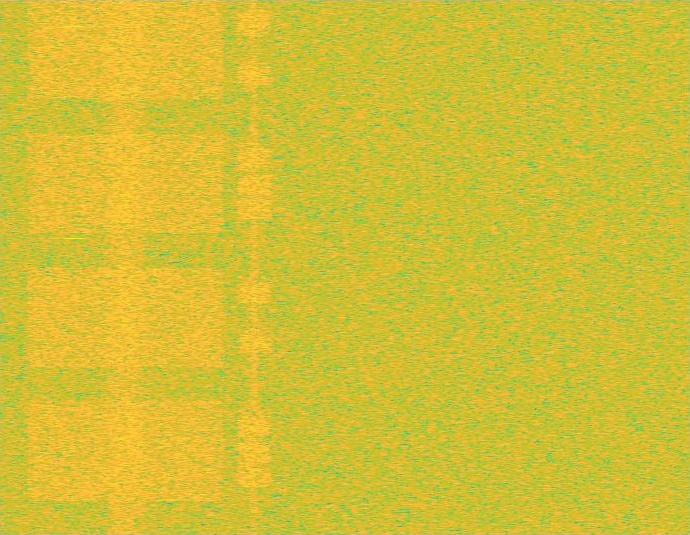5G: (22, 0, 229, 534)
DSSS: (102, 0, 149, 534), (250, 0, 258, 534)
LTE: (237, 0, 271, 534)
Radar: (68, 0, 82, 534)
